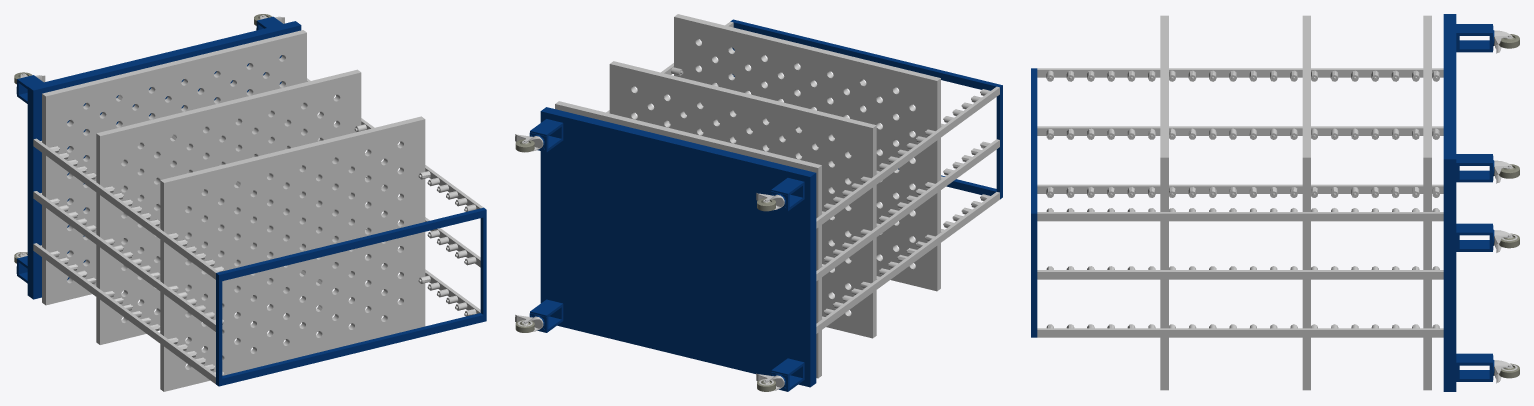
File: shelf.glb
The picture shows the model from 3 angles, left to right: view 1: azimuth 30°, elevation 25°; view 2: azimuth 150°, elevation 25°; view 3: azimuth 270°, elevation 25°; orthographic projection. The views are drawn at different scales.
Parts seen in each view (by area): view 1: shelf; view 2: shelf; view 3: shelf.
Part boxes in pixels (x1,y1,x2,y2): shelf: [14, 14, 486, 391]; shelf: [515, 14, 1002, 391]; shelf: [1031, 14, 1519, 391].
Size of the model in its own units: 1.65 by 1.2 by 2.29.
